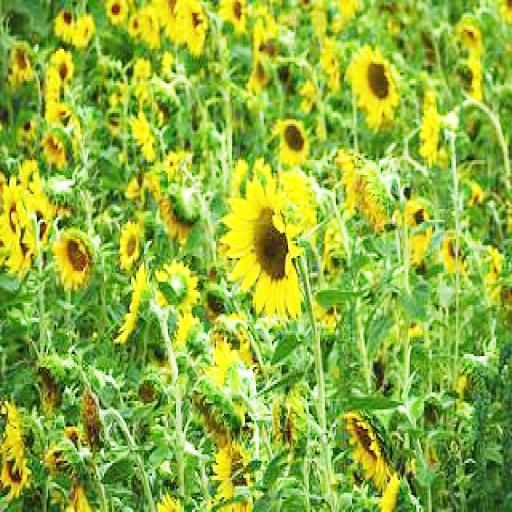sunflower: (221, 172, 307, 314), (348, 41, 398, 128), (342, 406, 388, 486), (213, 437, 254, 512), (112, 262, 146, 346), (405, 192, 435, 267), (51, 230, 90, 284), (158, 258, 197, 312), (418, 90, 440, 164), (277, 117, 312, 162), (42, 126, 66, 171), (118, 222, 140, 267)
